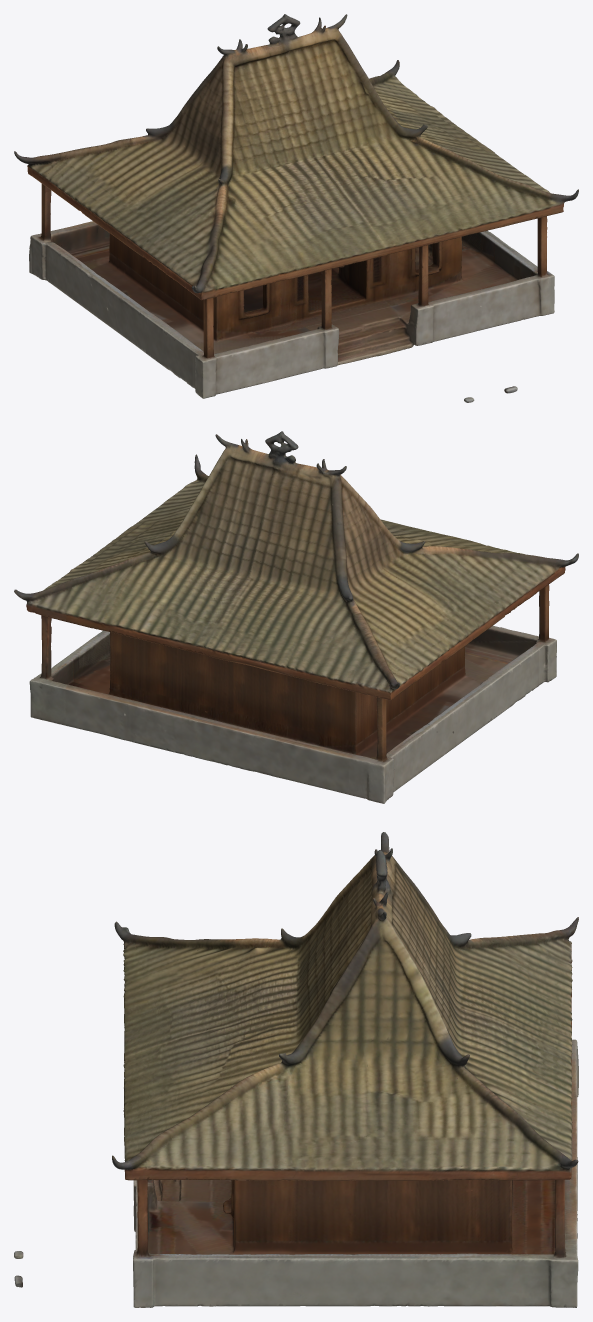
File: joglo.glb
The picture shows the model from 3 angles, top to bottom: view 1: azimuth 30°, elevation 25°; view 2: azimuth 150°, elevation 25°; view 3: azimuth 270°, elevation 25°; orthographic projection. The views are drawn at different scales.
Size of the model in its own units: 2 by 1.47 by 1.98.
1 material, 1 textured.
